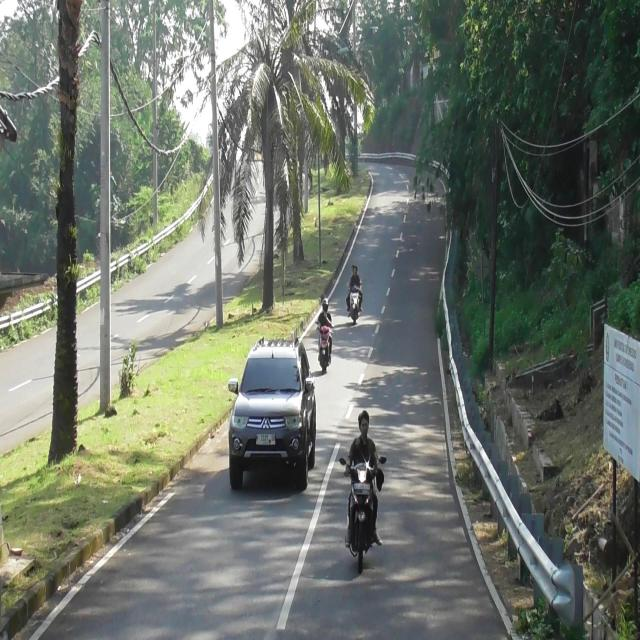motorcycle: (344, 454, 381, 570), (316, 320, 332, 372), (347, 283, 362, 326)
person: (346, 408, 382, 481), (346, 266, 361, 310), (318, 298, 333, 331), (350, 266, 360, 292)
rider_region: (344, 404, 384, 572), (317, 297, 333, 373), (345, 263, 364, 323)
